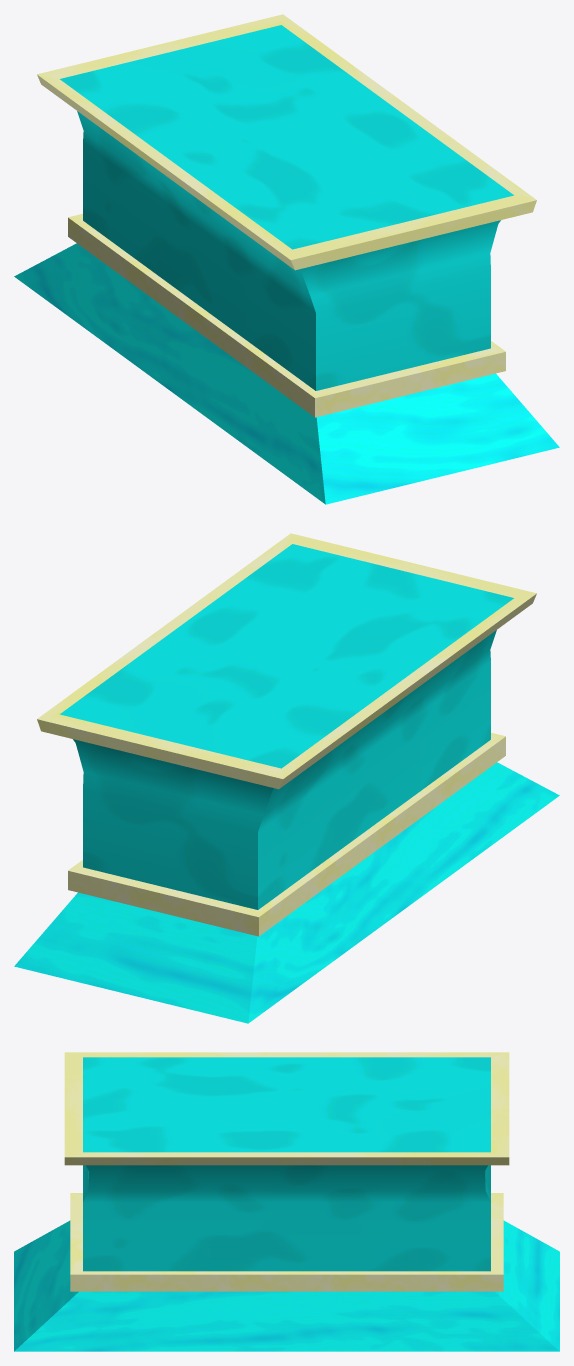
File: SM_Decoration_01.fbx
3 views of the same model, one above another, from view 1: azimuth 30°, elevation 25°; view 2: azimuth 150°, elevation 25°; view 3: azimuth 270°, elevation 25° (orthographic). The views are drawn at different scales.
Parts seen in each view (by area): view 1: SM_Decoration_01; view 2: SM_Decoration_01; view 3: SM_Decoration_01.
Boxes of the visible parts, left/top/right/bottom form: SM_Decoration_01: left=14, top=14, right=559, bottom=504; SM_Decoration_01: left=14, top=533, right=559, bottom=1023; SM_Decoration_01: left=14, top=1052, right=559, bottom=1351.
Size of the model in its own units: 5.31 by 4.64 by 11.65.
Materials: 1 (1 with a texture image).
